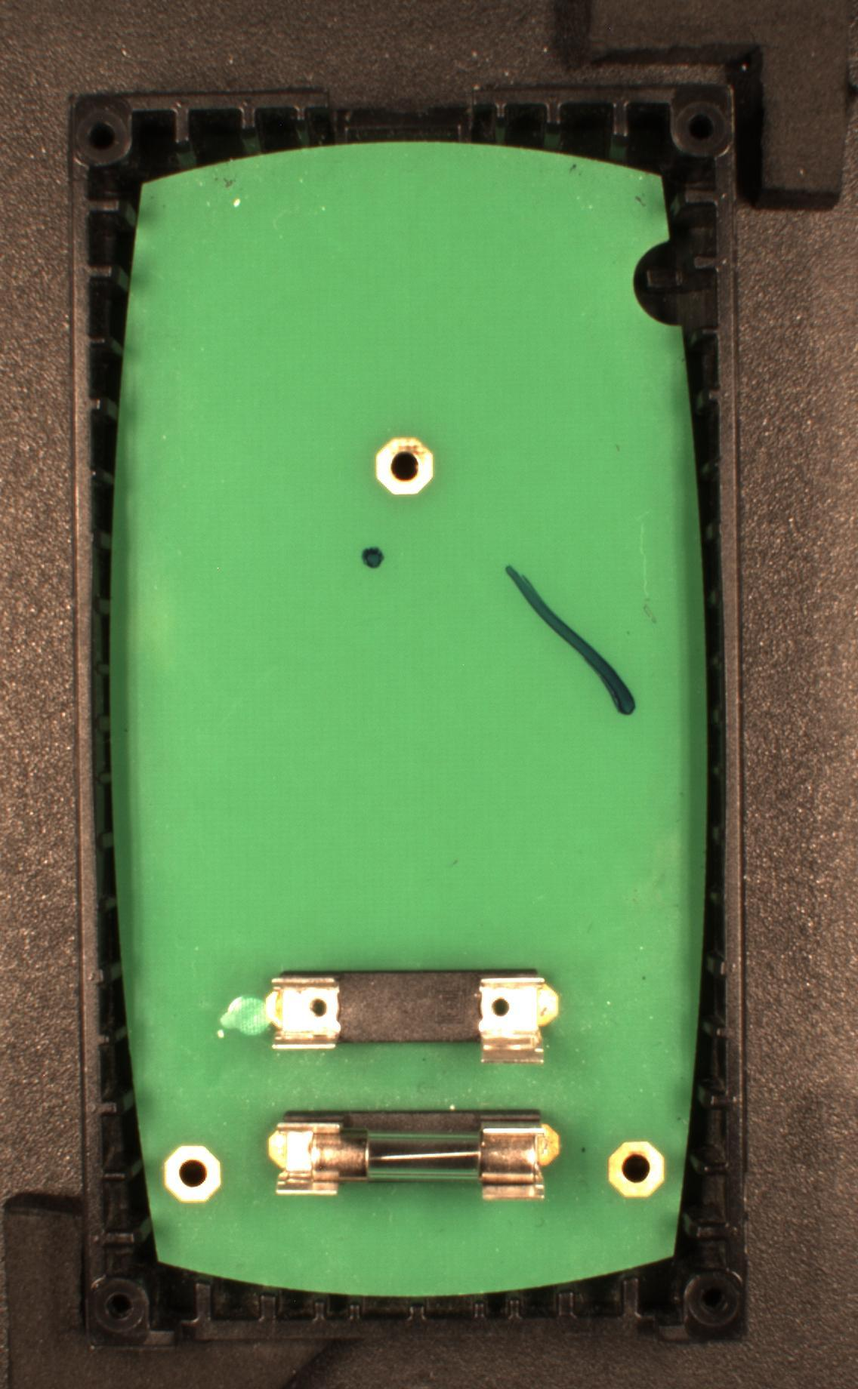Linijsko Ostecene: (502, 560, 640, 718)
Nepostojanje osiguraca: (264, 968, 563, 1070)
Tockasto Ostecenje: (358, 544, 387, 573)
